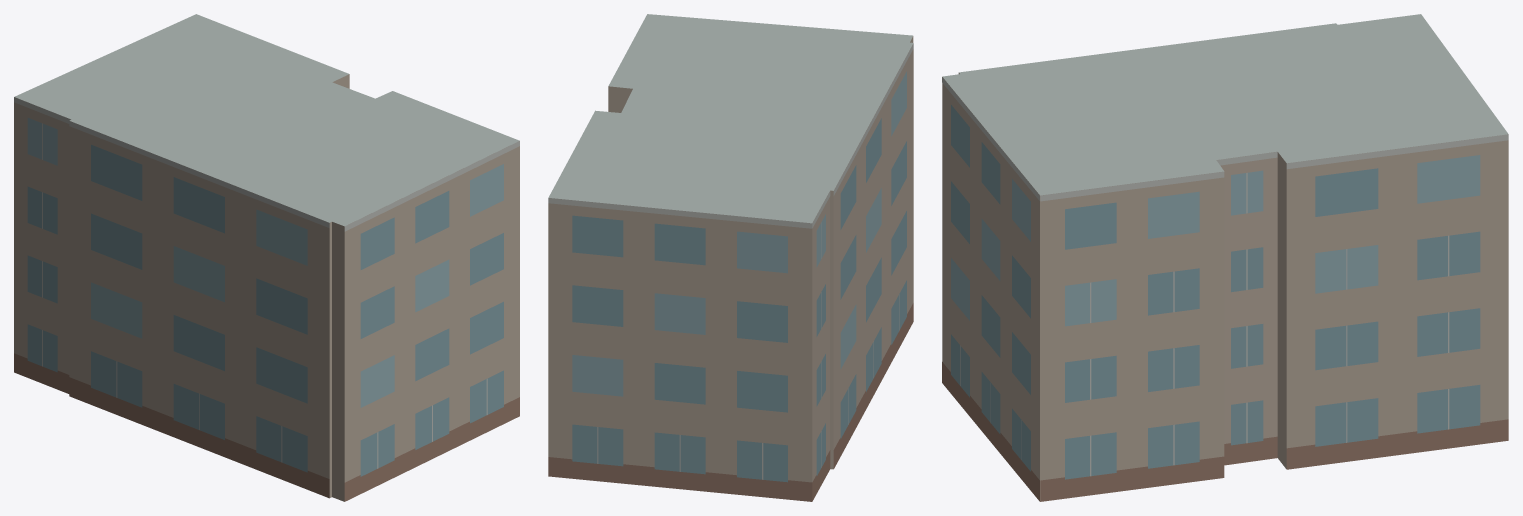
Rendered from survey-upis-32652901.glb.
3 renders of one model, left to right at view 1: azimuth 30°, elevation 25°; view 2: azimuth 150°, elevation 25°; view 3: azimuth 270°, elevation 25°, orthographic. The views are drawn at different scales.
Visible parts, largest first — view 1: survey-upis-32652901.tmp; view 2: survey-upis-32652901.tmp; view 3: survey-upis-32652901.tmp.
Boxes of the visible parts, x1=… form: survey-upis-32652901.tmp: x1=14, y1=14, x2=519, y2=501; survey-upis-32652901.tmp: x1=548, y1=14, x2=913, y2=501; survey-upis-32652901.tmp: x1=942, y1=14, x2=1508, y2=501.
Size of the model in its own units: 15.89 by 12.5 by 20.96.
